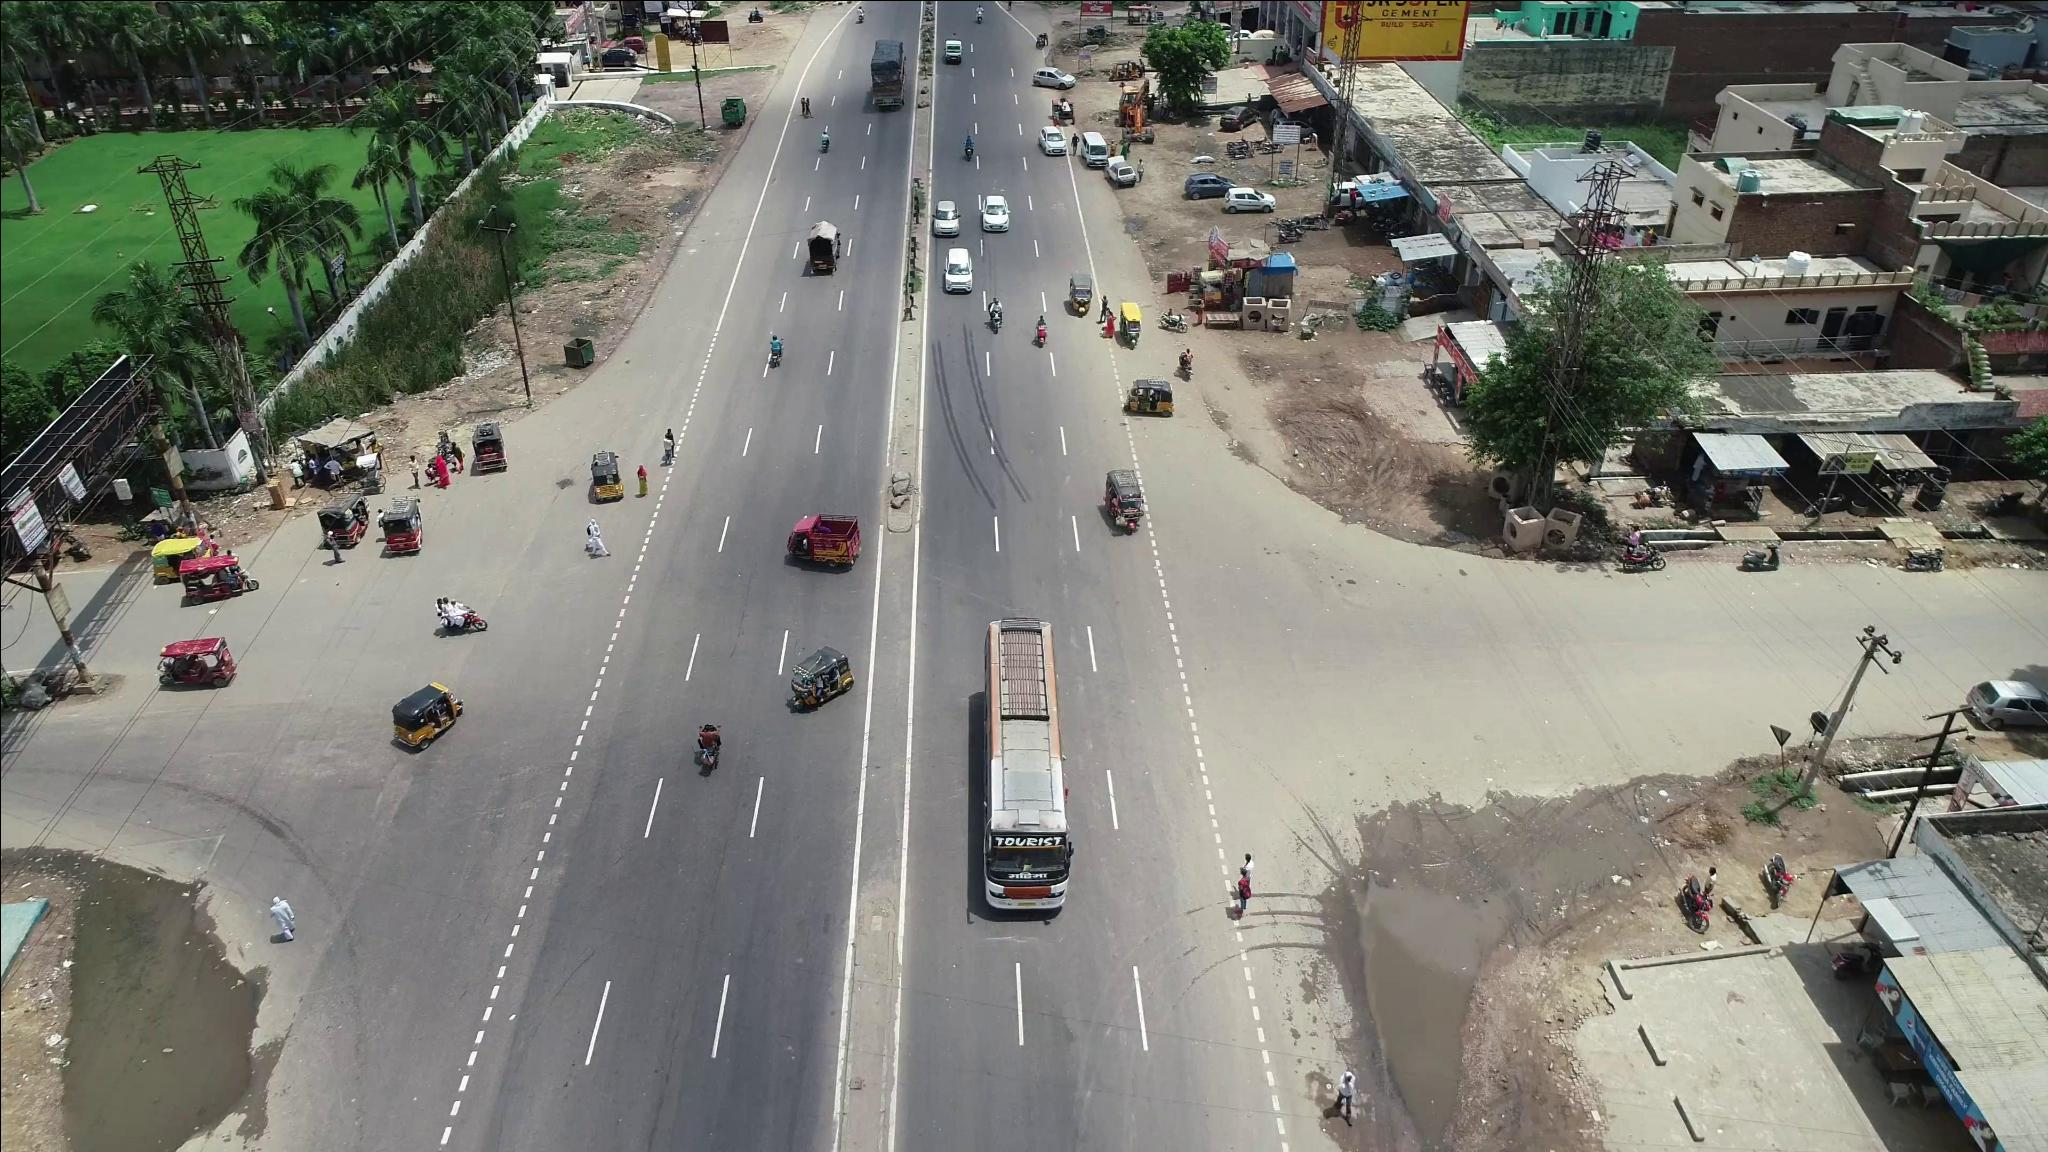Waterlogging: (76, 871, 250, 1146), (1349, 871, 1457, 1108)
